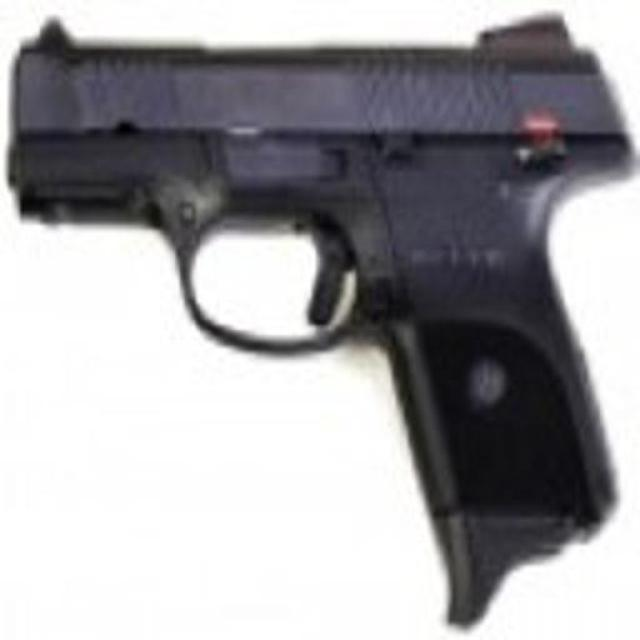pistol: (4, 21, 620, 612)
